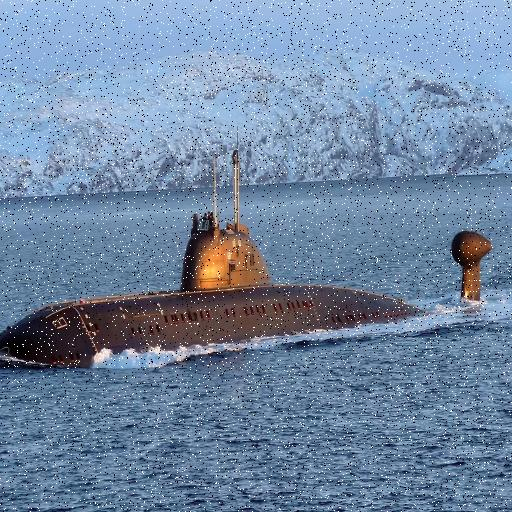submarine: (1, 120, 498, 382)
